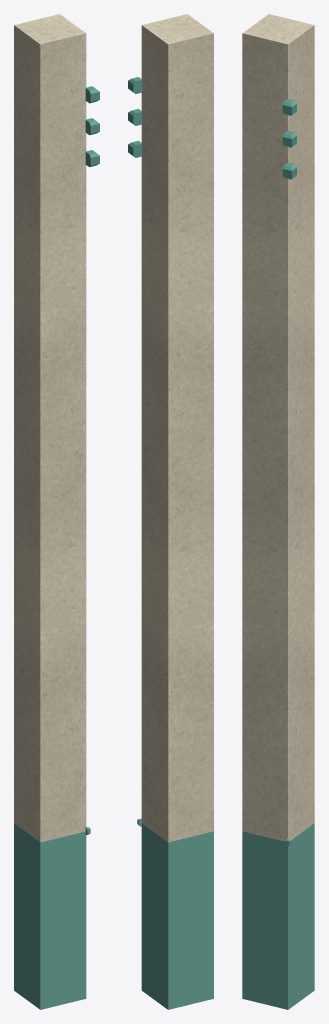
The model's file is corner.glb.
The picture shows the model from 3 angles, left to right: view 1: azimuth 30°, elevation 25°; view 2: azimuth 210°, elevation 25°; view 3: azimuth 330°, elevation 25°; orthographic projection.
Parts seen in each view (by area): view 1: corner_render, corner_tile_g, corner_trim_g; view 2: corner_render, corner_tile_g, corner_trim_g; view 3: corner_render, corner_tile_g, corner_trim_g.
Part boxes in pixels (left/top/right/bottom): corner_render: left=14, top=14, right=86, bottom=842; corner_tile_g: left=14, top=823, right=90, bottom=1009; corner_trim_g: left=85, top=86, right=99, bottom=167; corner_render: left=141, top=14, right=213, bottom=842; corner_tile_g: left=137, top=818, right=213, bottom=1009; corner_trim_g: left=128, top=77, right=141, bottom=157; corner_render: left=242, top=14, right=314, bottom=841; corner_tile_g: left=242, top=823, right=314, bottom=1009; corner_trim_g: left=282, top=99, right=296, bottom=179.
Bounding box in the file's own units: 0.357 × 6.05 × 0.357.
Materials: 3 (1 with a texture image).
